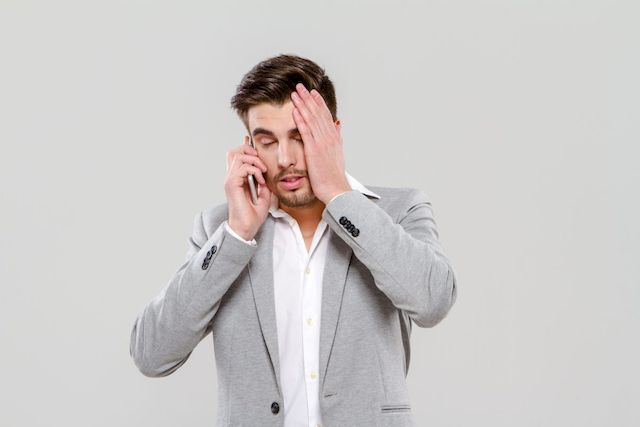phone: (239, 134, 265, 211)
talk: (222, 123, 339, 231)
